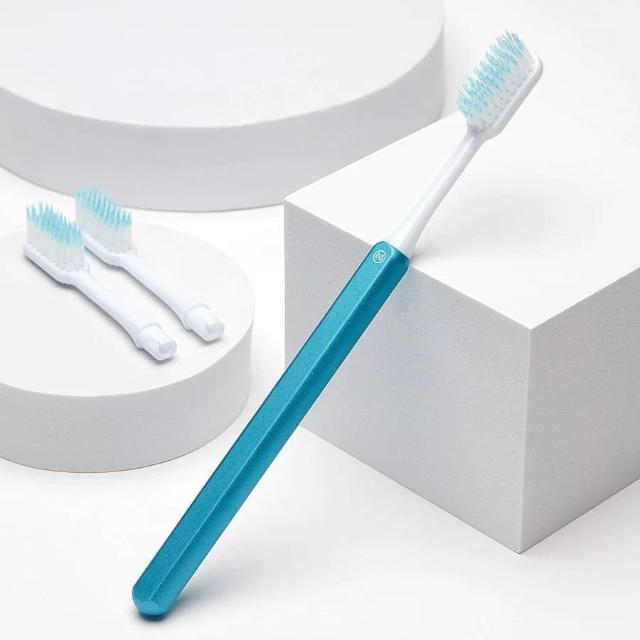toothbrush: (308, 23, 540, 430)
